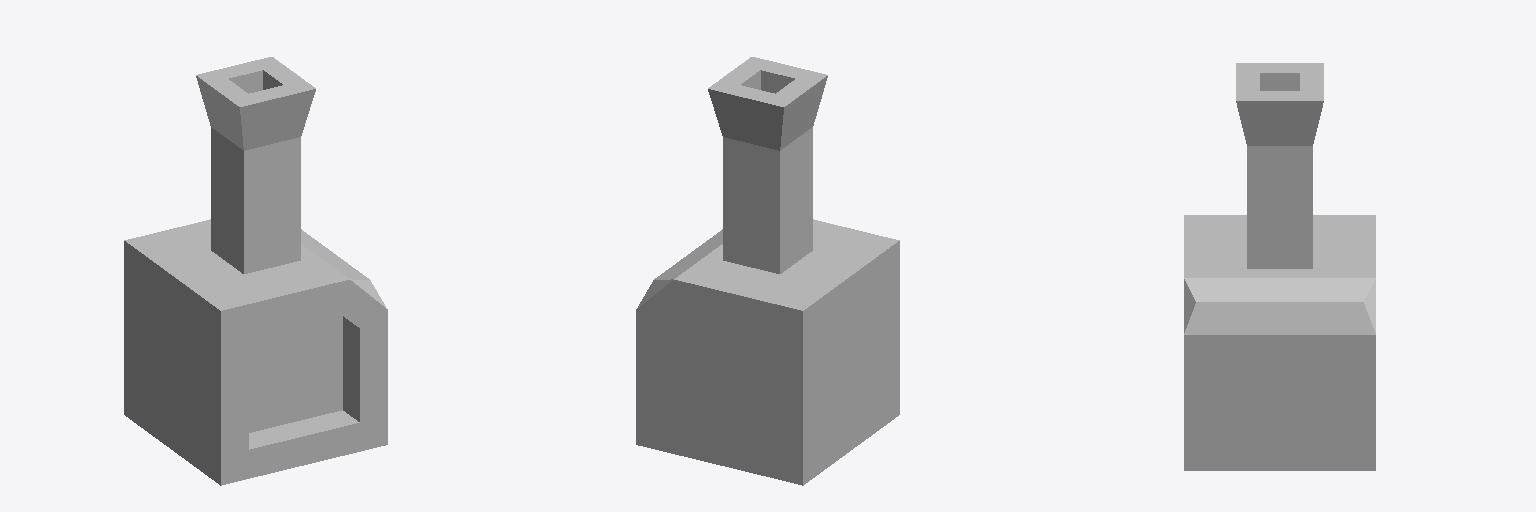
Rendered from meshtest.obj.
3 renders of one model, left to right at view 1: azimuth 30°, elevation 25°; view 2: azimuth 150°, elevation 25°; view 3: azimuth 270°, elevation 25°, orthographic.
Visible parts, largest first — view 1: Cube; view 2: Cube; view 3: Cube.
Boxes of the visible parts, x1=… form: Cube: x1=124, y1=57, x2=387, y2=485; Cube: x1=636, y1=57, x2=899, y2=485; Cube: x1=1184, y1=63, x2=1375, y2=470.
Bounding box in the file's own units: 2 × 3.99 × 2.